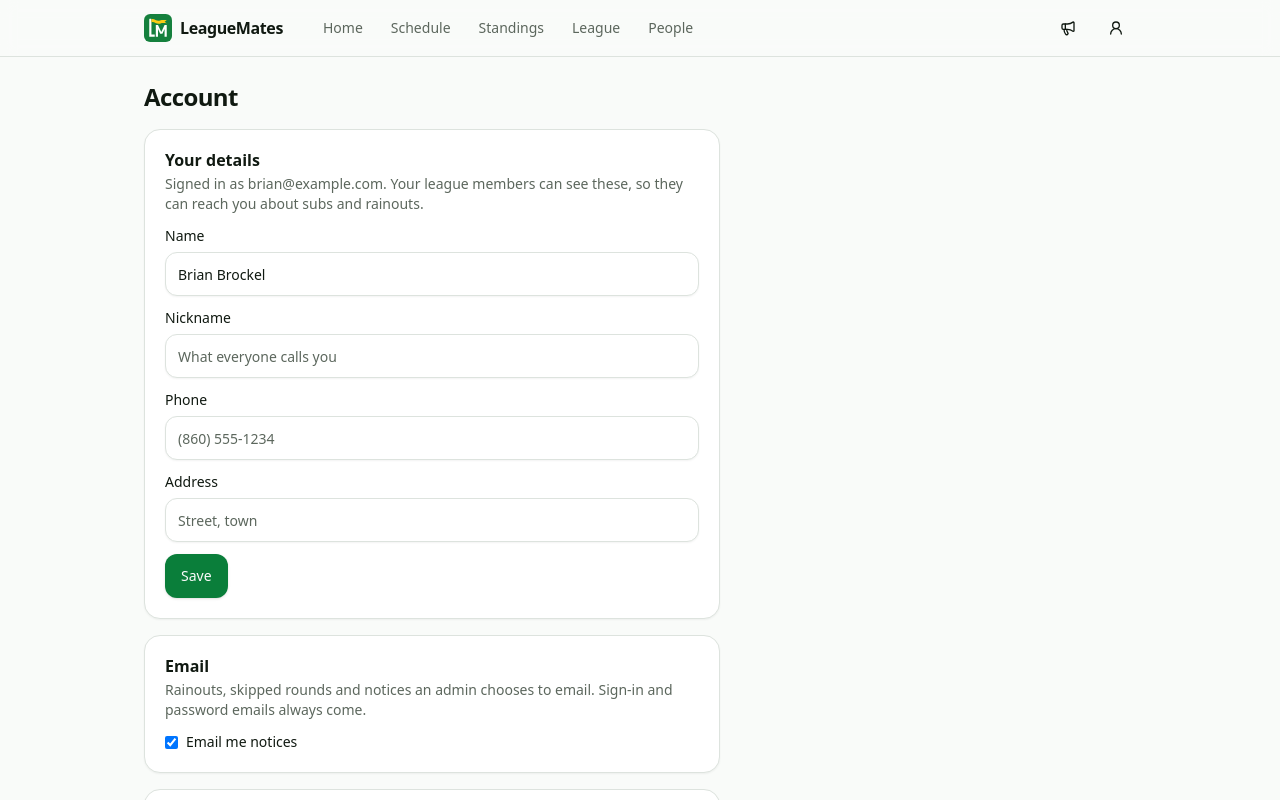
Scenario: account details › saves name, phone and address
Type "860 555 1234" into the field labelled "Phone". click: (432, 438)
box: [165,416,699,460]
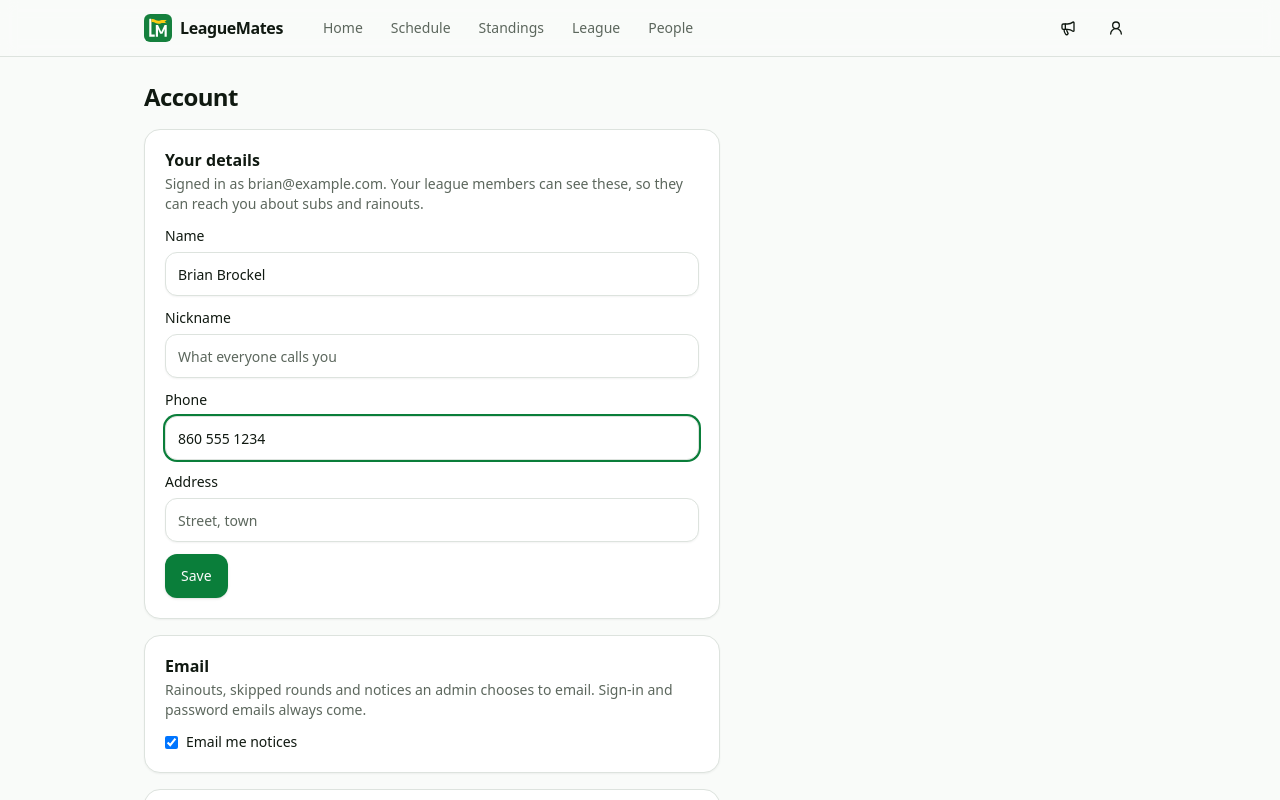
Type "1 Golf Rd, Berlin CT" into the field labelled "Address". click: (432, 520)
box: [165,498,699,542]
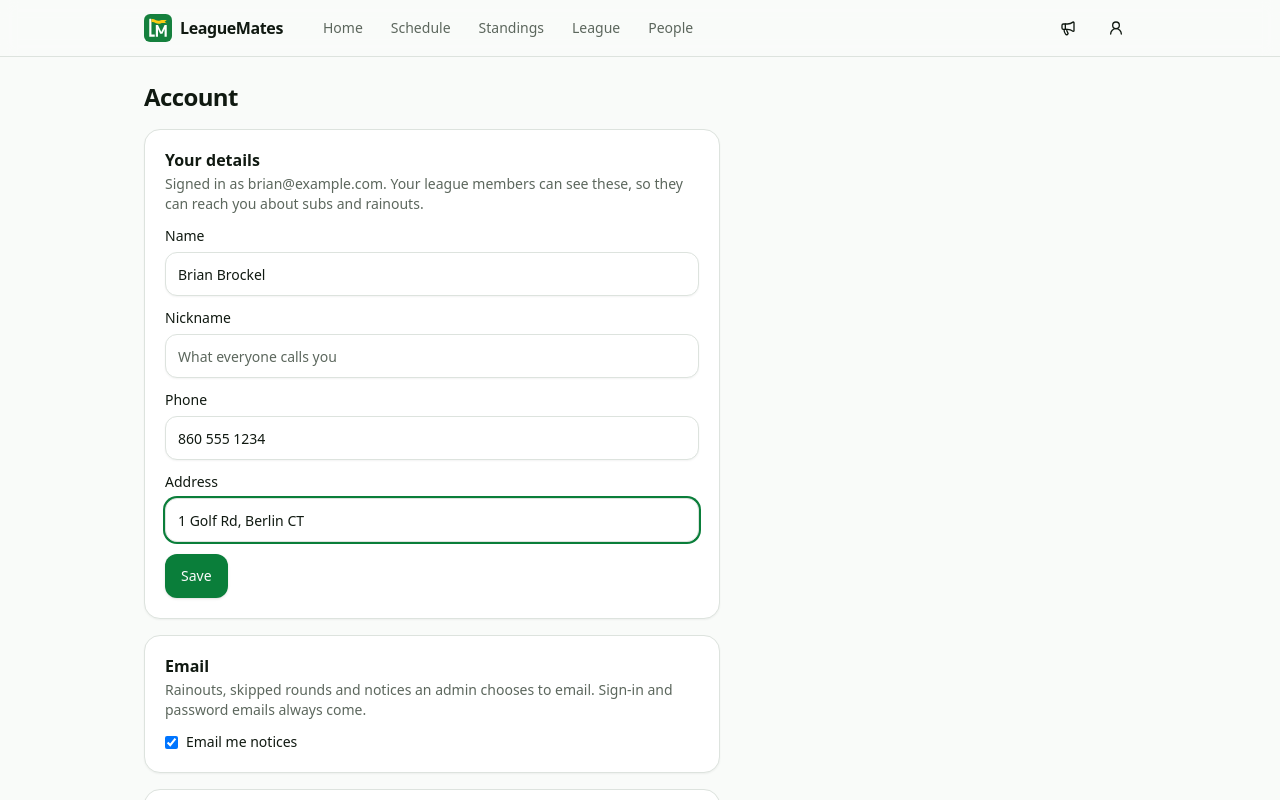
Click the button "Save". click: click(196, 576)
box: [165,554,228,598]
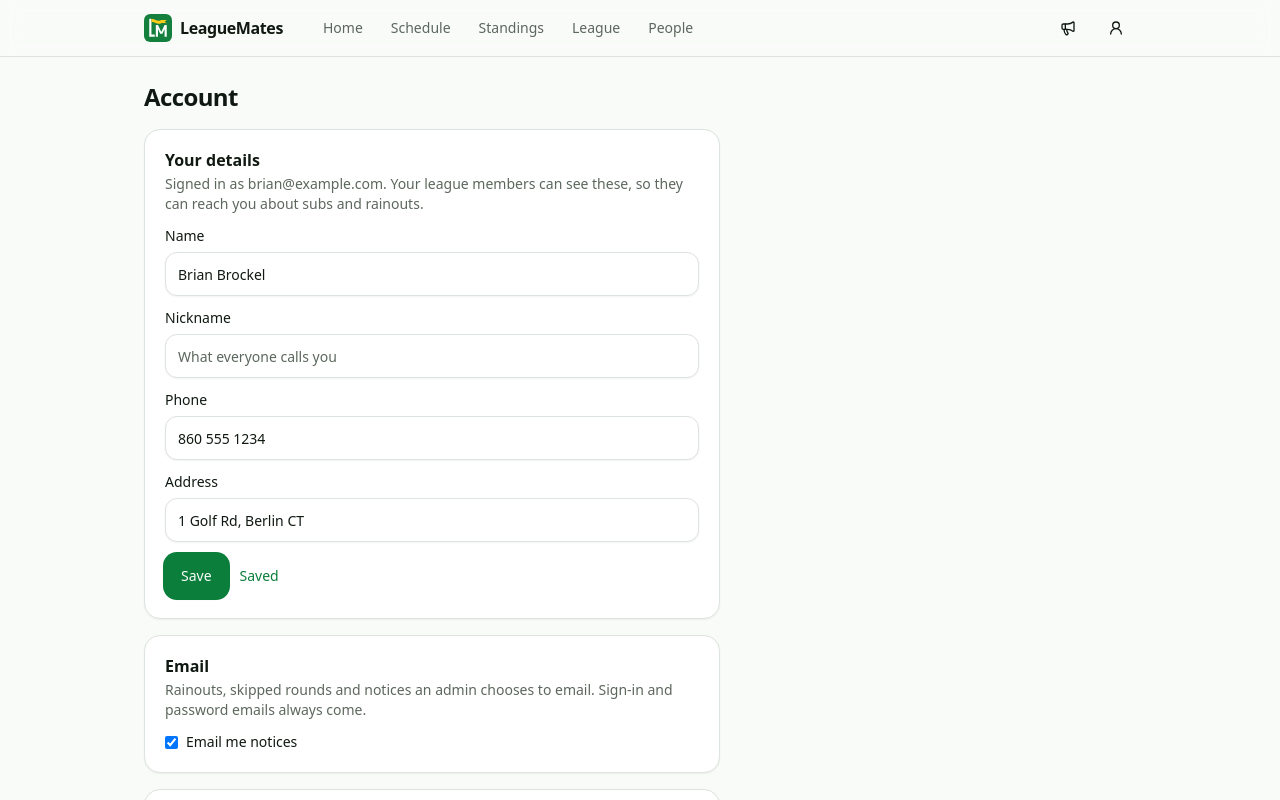
Expected: the text "Saved" is shown, [240,566,279,586]
